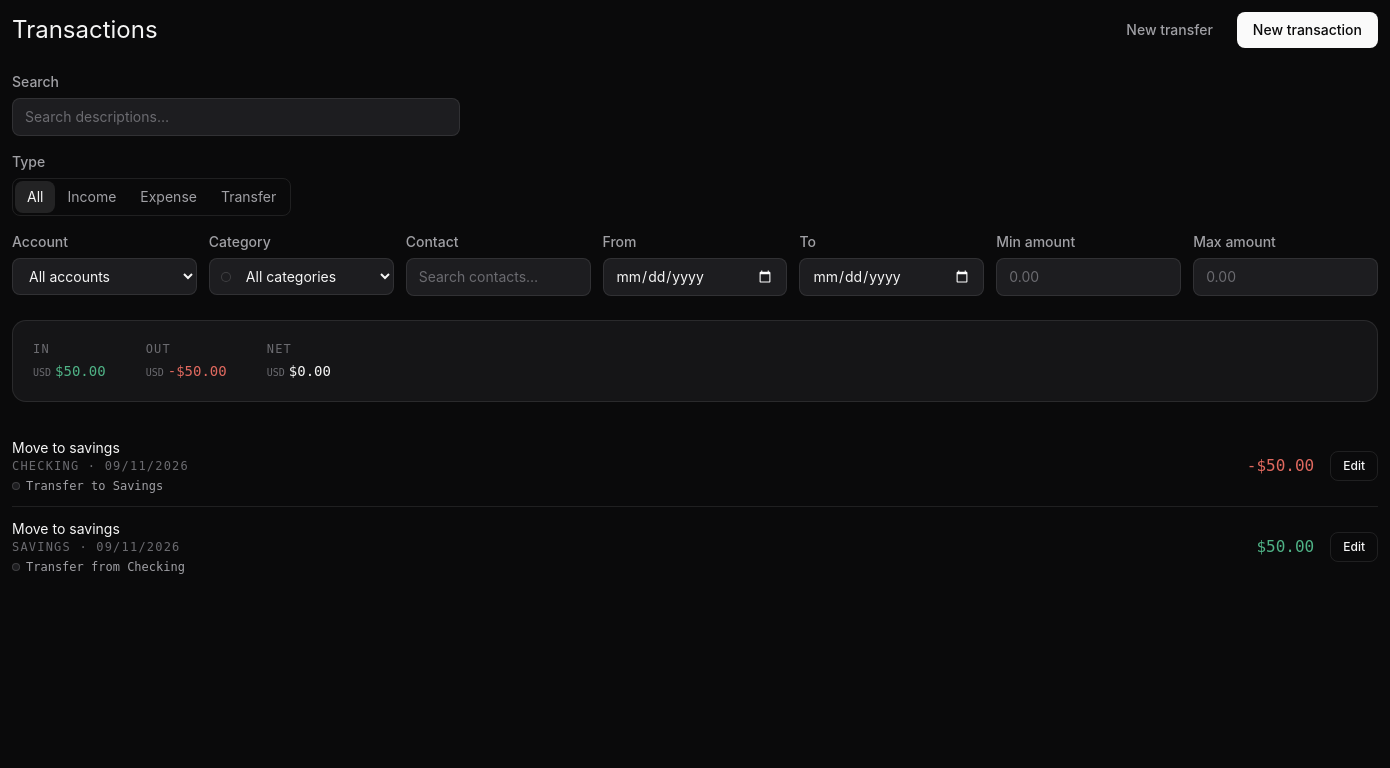
Test: TransactionsScreen — transfer legs › opens the transfer editor (not the transaction form) when a leg's edit is clicked
This screenshot has width=1390, height=768.
What coordinates should you click on to do the following:
click the 1st button "Edit"
I would click on:
 (1354, 466)
Its box is [1330,451,1378,481].
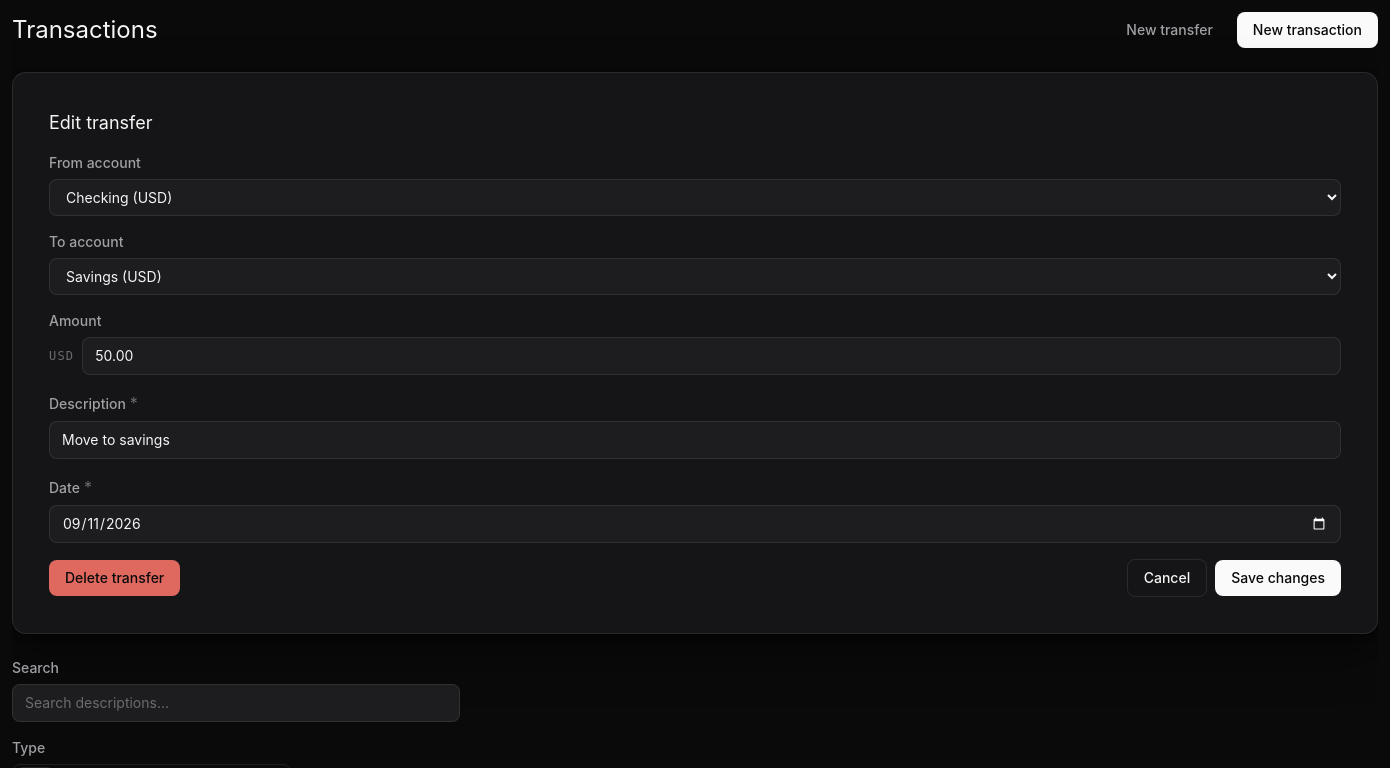
expect the dropdown labelled "From account" shows "Checking (USD)": met, box [49,179,1341,216]
expect the dropdown labelled "To account" shows "Savings (USD)": met, box [49,258,1341,295]
